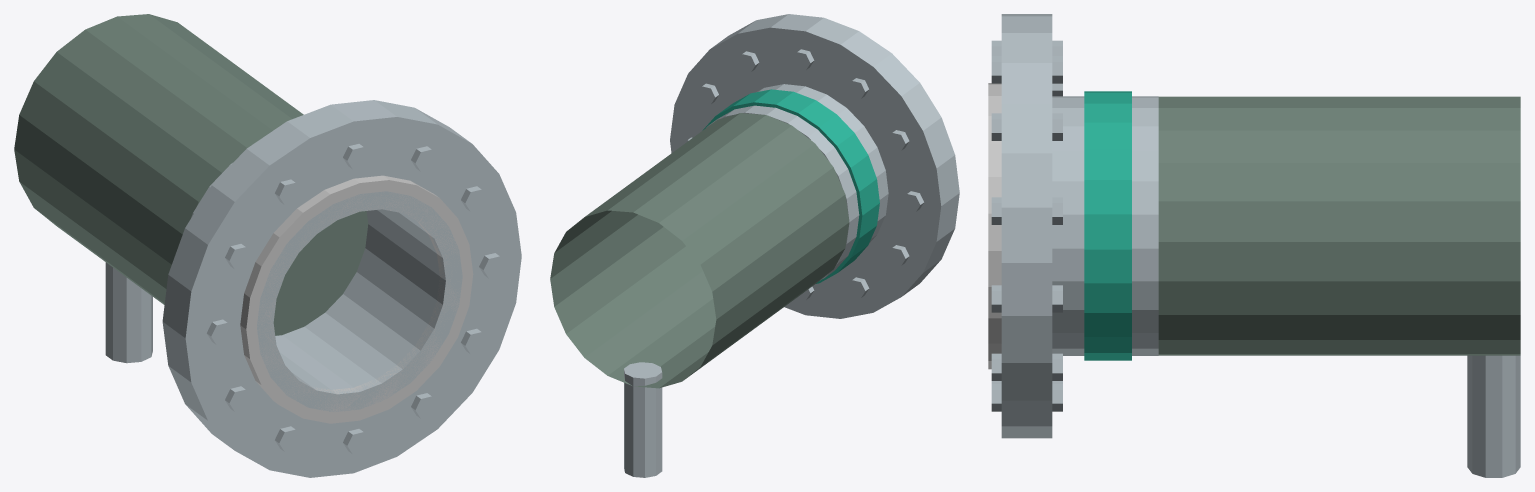
The model's file is cell_48.obj.
3 views of the same model, side by side, from view 1: azimuth 30°, elevation 25°; view 2: azimuth 150°, elevation 25°; view 3: azimuth 270°, elevation 25° (orthographic). The views are drawn at different scales.
Size of the model in its own units: 0.8 by 0.9 by 1.
